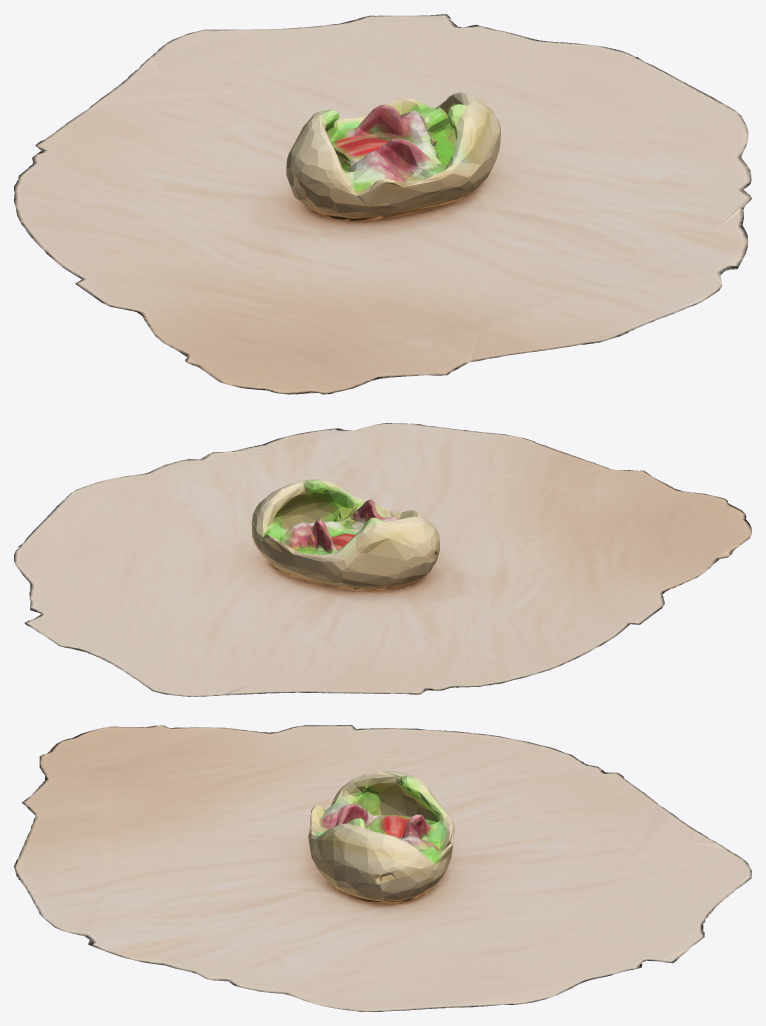
The model's file is mexican.glb.
3 views of the same model, one above another, from view 1: azimuth 30°, elevation 25°; view 2: azimuth 150°, elevation 25°; view 3: azimuth 270°, elevation 25° (orthographic). The views are drawn at different scales.
Visible parts, largest first — view 1: world; view 2: world; view 3: world.
Boxes of the visible parts, x1,y1,x2,y2 form: world: [14, 14, 751, 394]; world: [14, 423, 751, 696]; world: [14, 725, 751, 1011].
Bounding box in the file's own units: 0.9192 × 0.1156 × 0.9974.
1 material, 1 textured.
